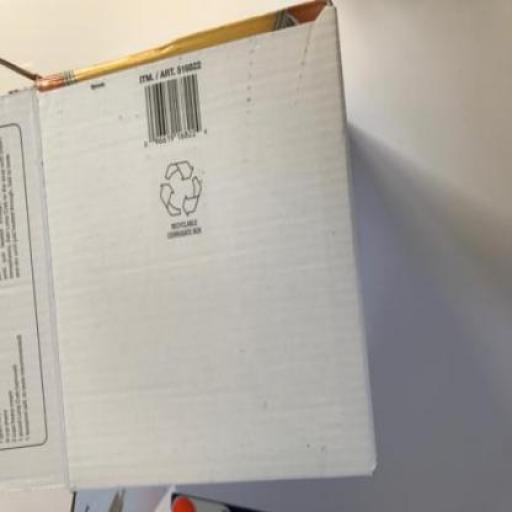cardboard: (1, 3, 376, 491), (69, 491, 265, 511)
